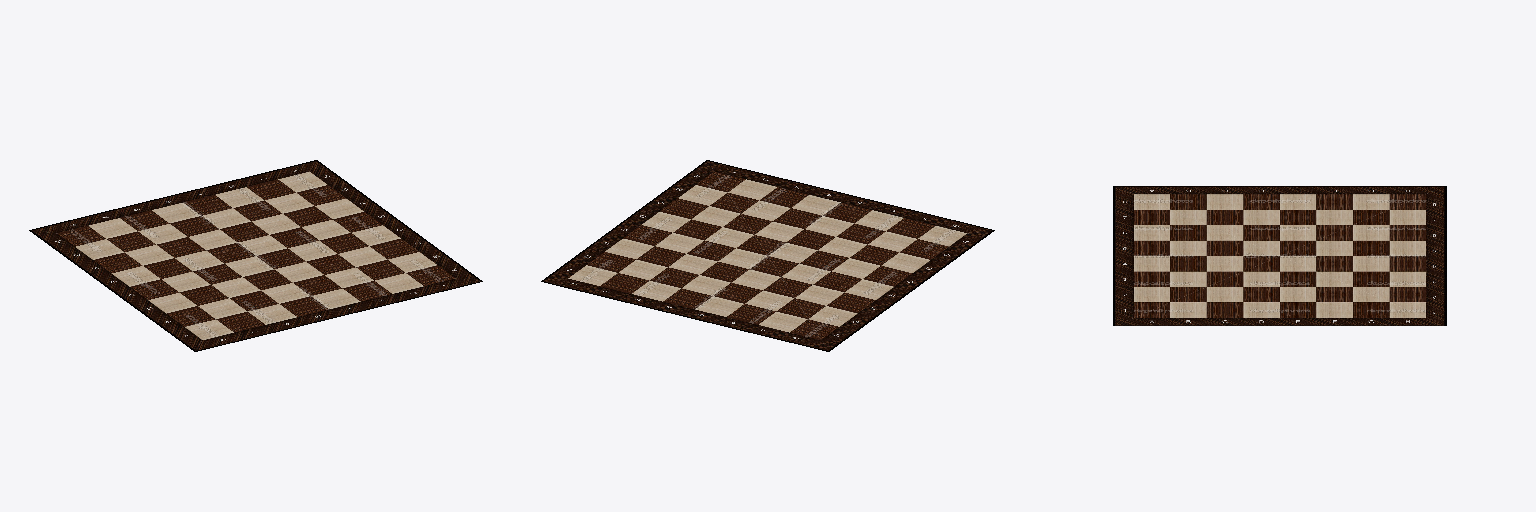
The picture shows the model from 3 angles: view 1: azimuth 30°, elevation 25°; view 2: azimuth 150°, elevation 25°; view 3: azimuth 270°, elevation 25°; orthographic projection.
Visible parts, largest first — view 1: Plane_Plane.001; view 2: Plane_Plane.001; view 3: Plane_Plane.001.
Part boxes in pixels (x1,y1,x2,y2): Plane_Plane.001: (29,160,482,351); Plane_Plane.001: (541,160,994,351); Plane_Plane.001: (1113,186,1446,325).
Size of the model in its own units: 50 by 0 by 50.
1 materials, 1 textured.